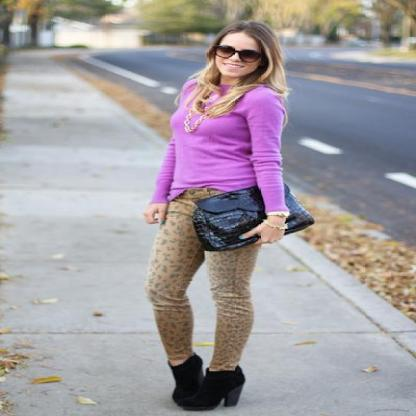bag: (192, 182, 314, 255)
pants: (148, 180, 260, 371)
shirt: (154, 80, 289, 216)
shoe: (170, 358, 244, 410)
sunglass: (207, 42, 237, 64)
